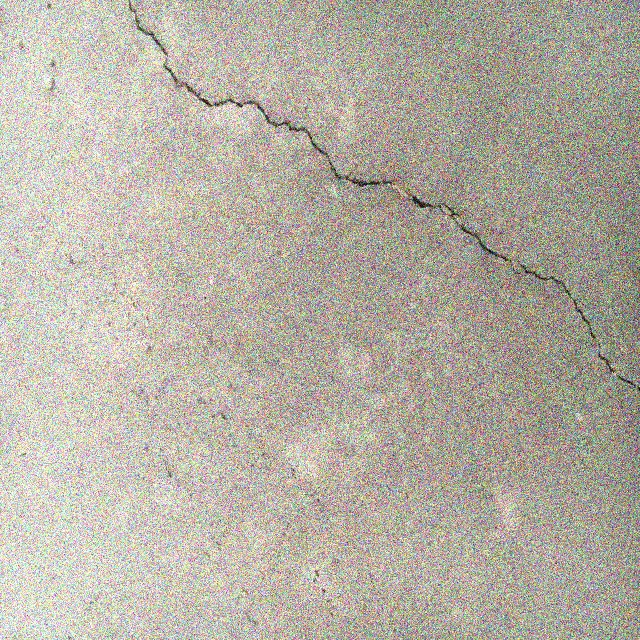SurfaceCrack: (65, 0, 640, 435)
